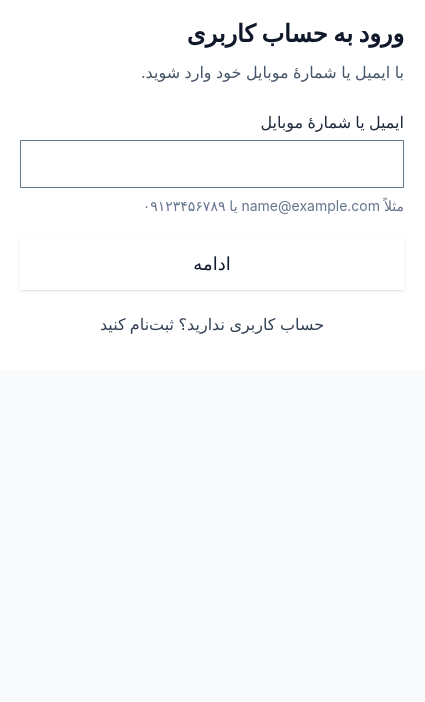
Test: LoginFlow › an OTP login that needs 2FA re-sends the same otp_code with the totp_code
The width and height of the screenshot is (425, 702).
Later steps or results of the test are not shown.
Type "sara.ahmadi@example.com" into the field labelled "ایمیل یا شمارهٔ موبایل". click: x=212, y=164
box: [21,141,403,187]
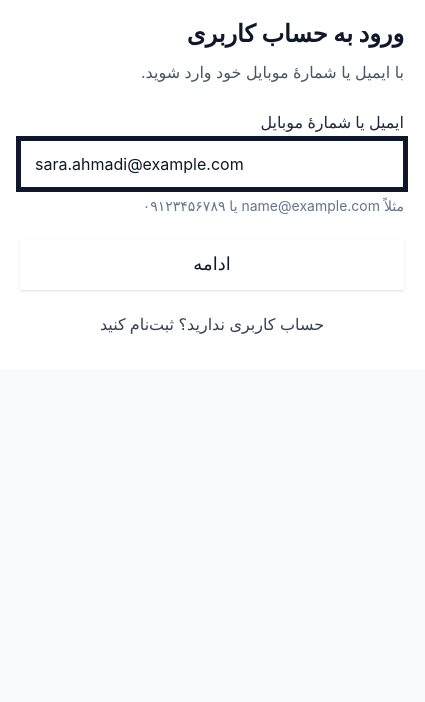
Click the button "ادامه". click: x=212, y=264
box: [20,238,404,290]
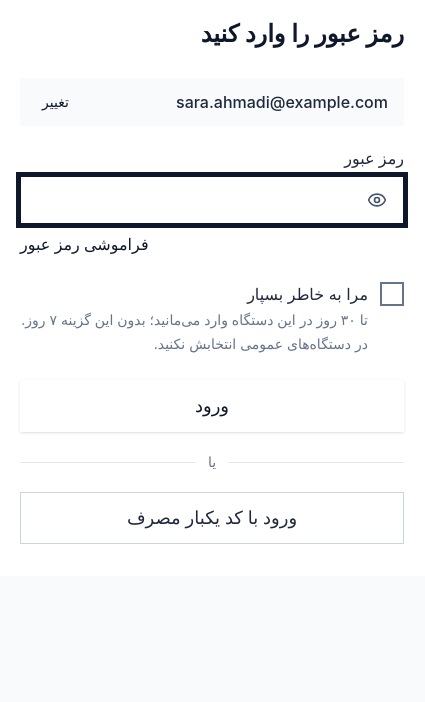
Click the button "ورود با کد یکبار مصرف". click: x=212, y=518
box: [20,492,404,544]
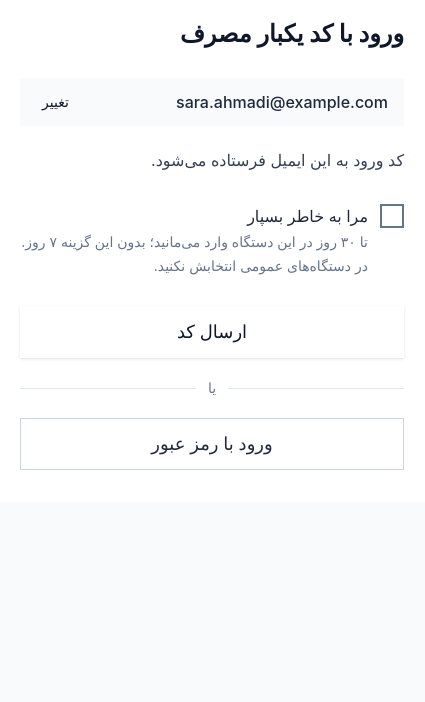
Click the button "ارسال کد". click: x=212, y=332
box: [20,306,404,358]
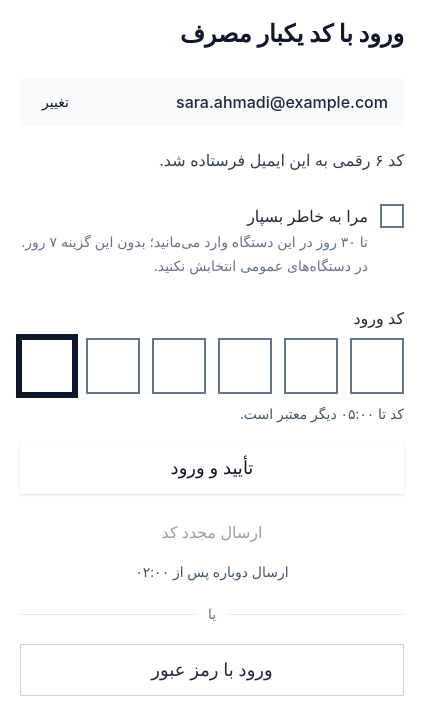
Type keys "654321"
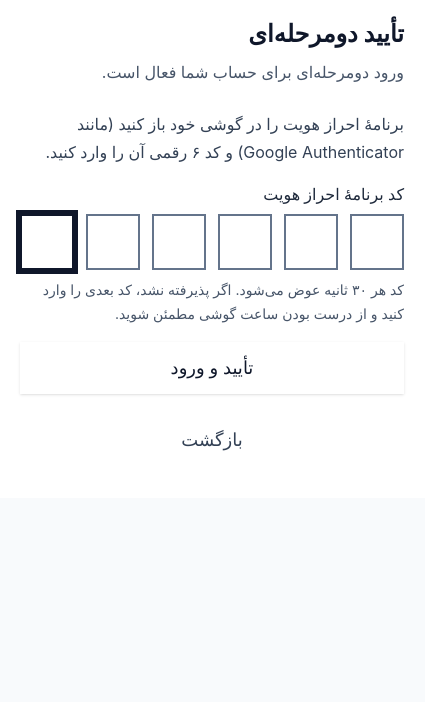
Result: the heading "تأیید دومرحله‌ای" is shown at [248,19,404,48]
